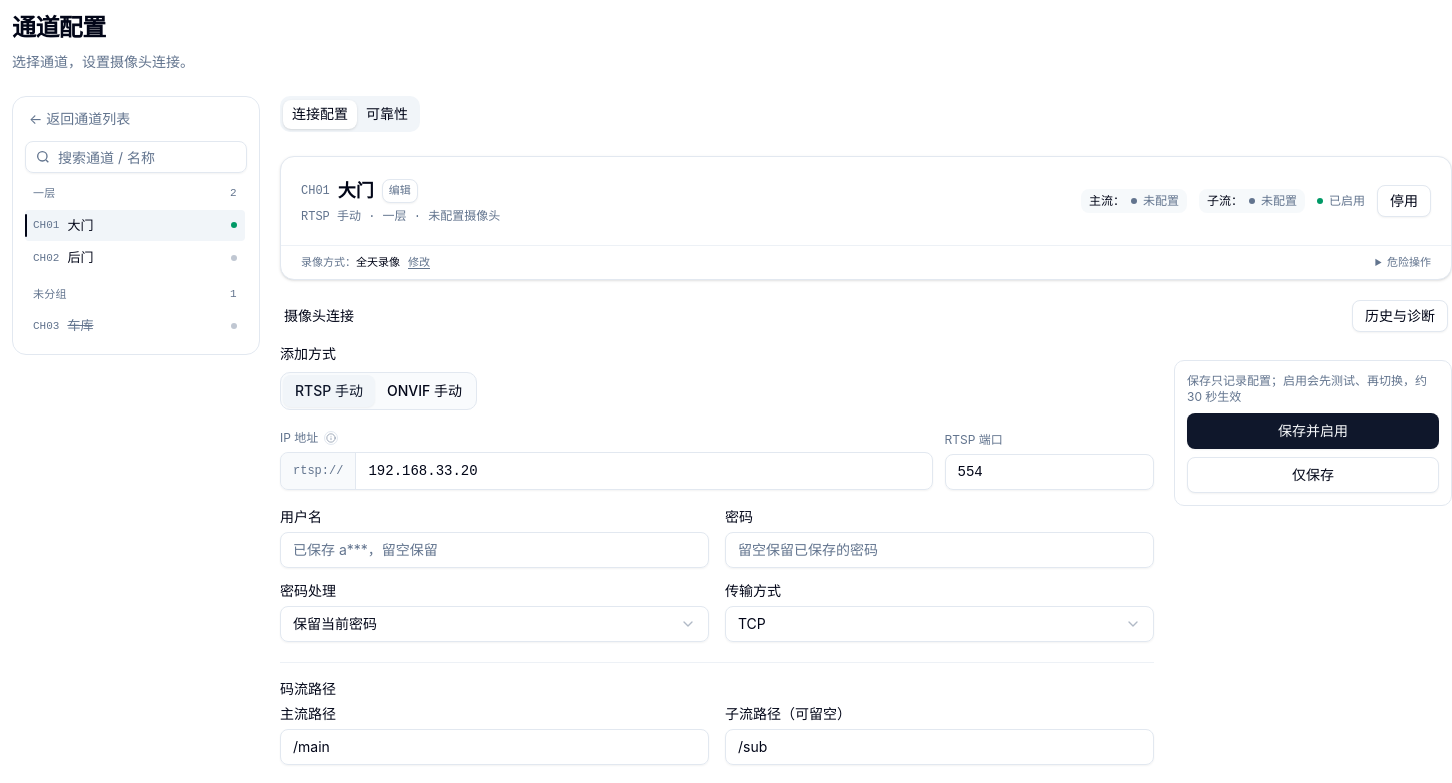
Test: connecting never inspects or changes recording, which lives on the recording plan page
The width and height of the screenshot is (1452, 783).
Click the button "保存并启用": (1313, 430) [1187,412,1439,448]
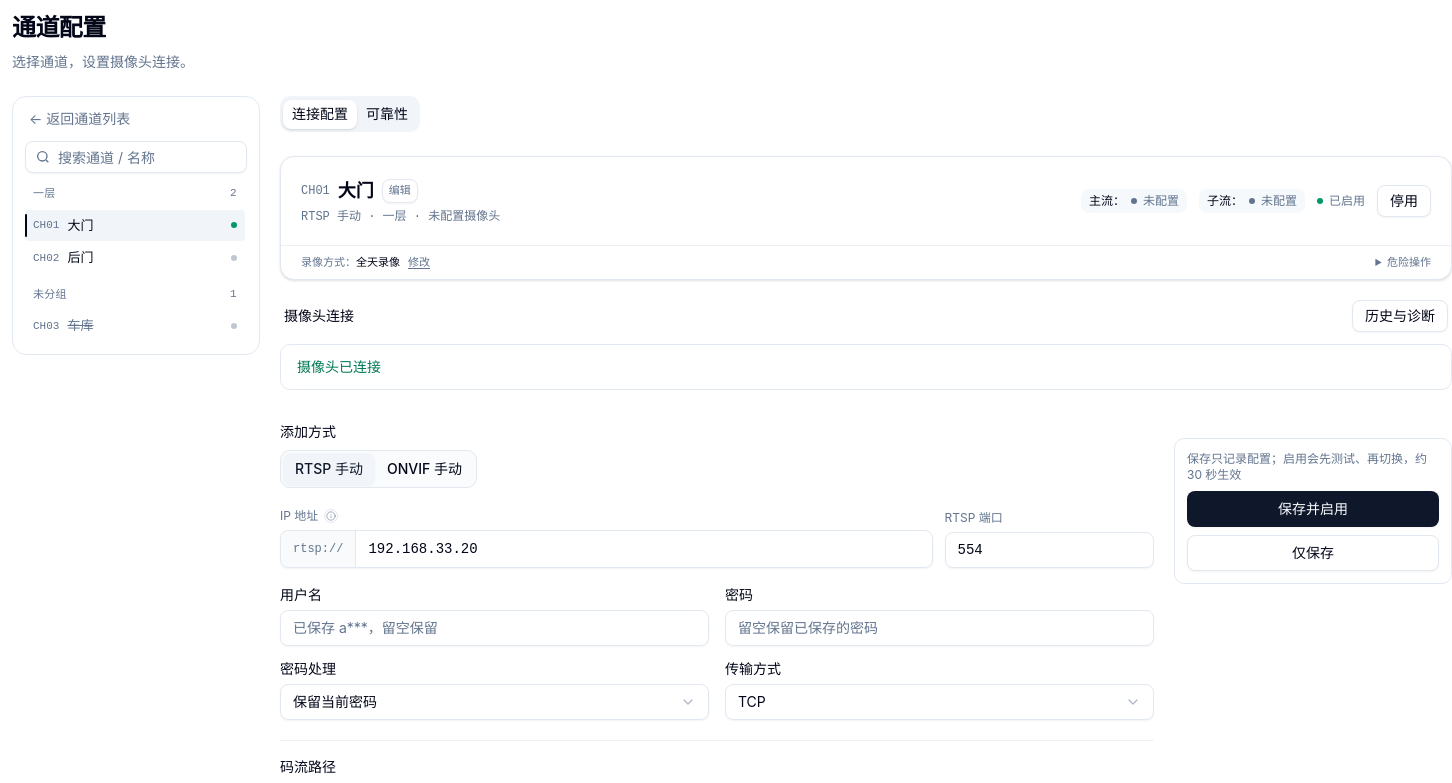
Expected: the text "摄像头已连接" is shown, [297,358,381,374]
